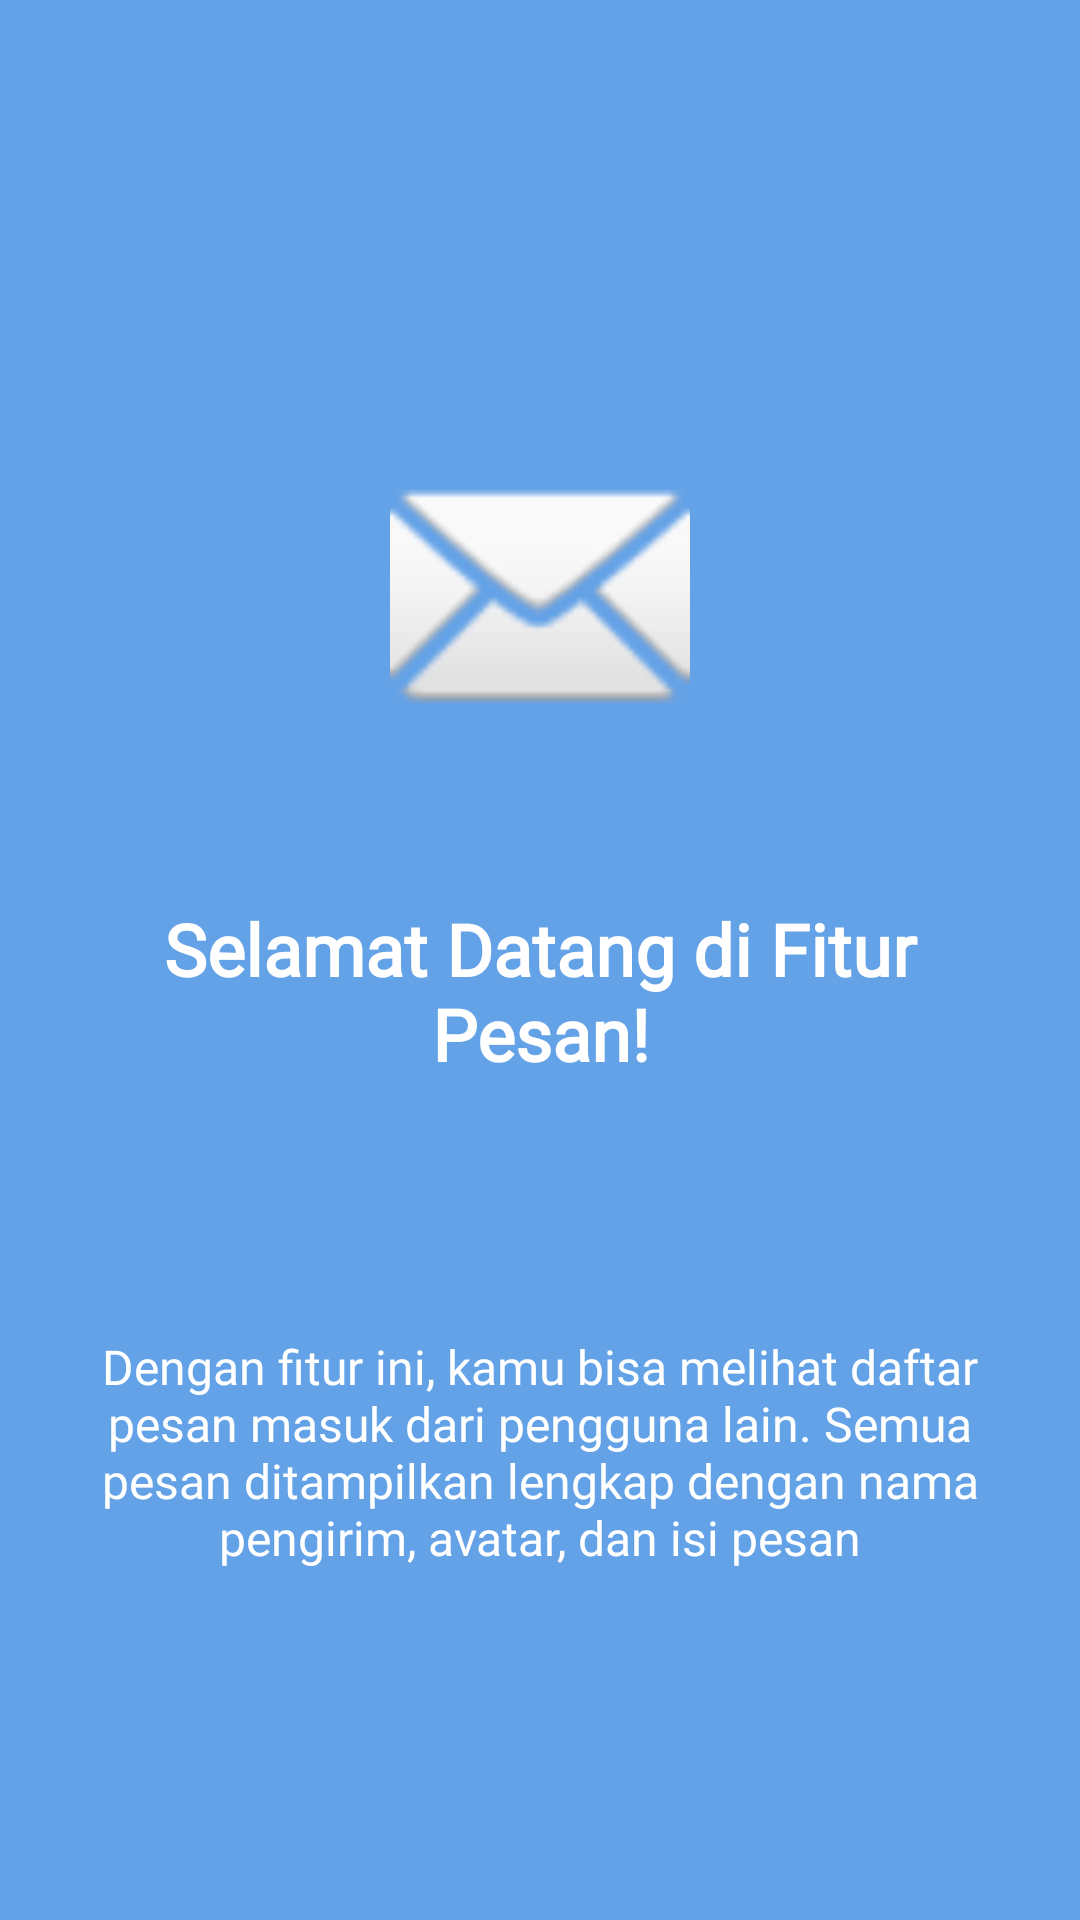

Icon click points for this 1080x1920 phone screenshot, format point (x, y):
email: point (540, 596)
